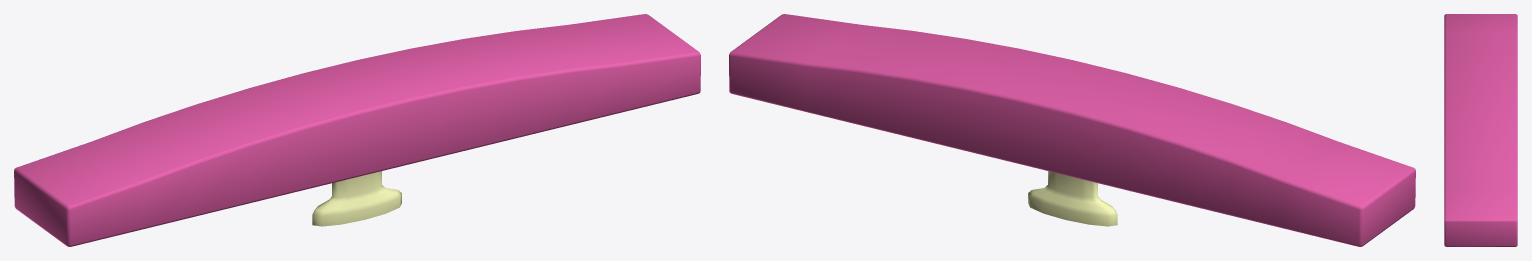
The model's file is PaddlePink.fbx.
The picture shows the model from 3 angles, left to right: view 1: azimuth 30°, elevation 25°; view 2: azimuth 150°, elevation 25°; view 3: azimuth 270°, elevation 25°; orthographic projection. The views are drawn at different scales.
Visible parts, largest first — view 1: paddle.004, paddleholder.004; view 2: paddle.004, paddleholder.004; view 3: paddle.004.
Part boxes in pixels (x1,y1,x2,y2): paddle.004: (14,14,700,246); paddleholder.004: (312,171,401,226); paddle.004: (729,14,1415,246); paddleholder.004: (1028,171,1117,226); paddle.004: (1444,14,1517,246).
Size of the model in its own units: 42.8 by 8.29 by 6.43.
